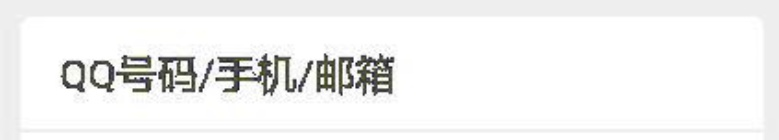EditText: (1, 1, 778, 139)
